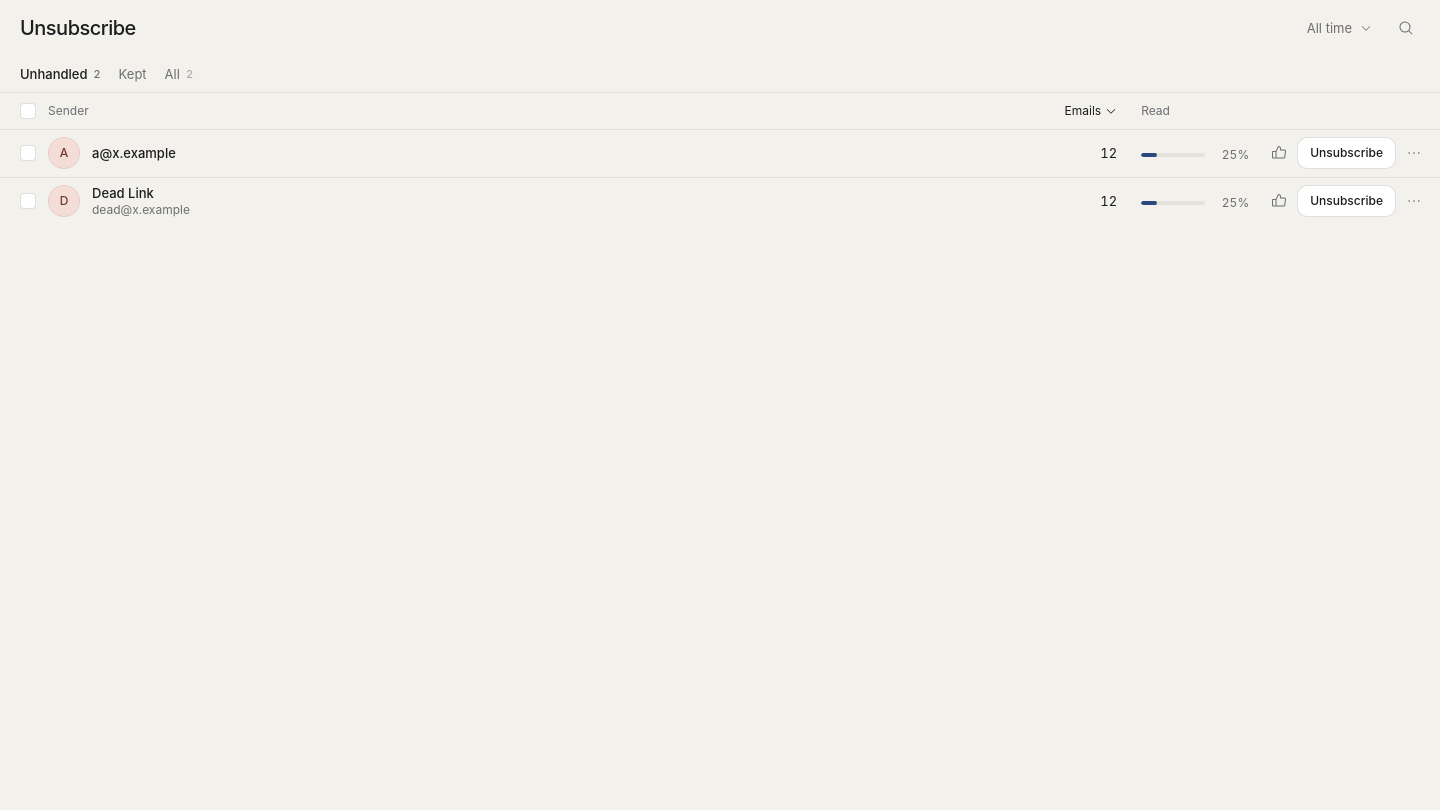
Test: BulkUnsubscribePage › keeps the bulk dialog open with the senders that failed (PLAN §16)
This screenshot has width=1440, height=810.
Click the checkbox named "Select all".
click(28, 111)  # box [20,103,36,119]
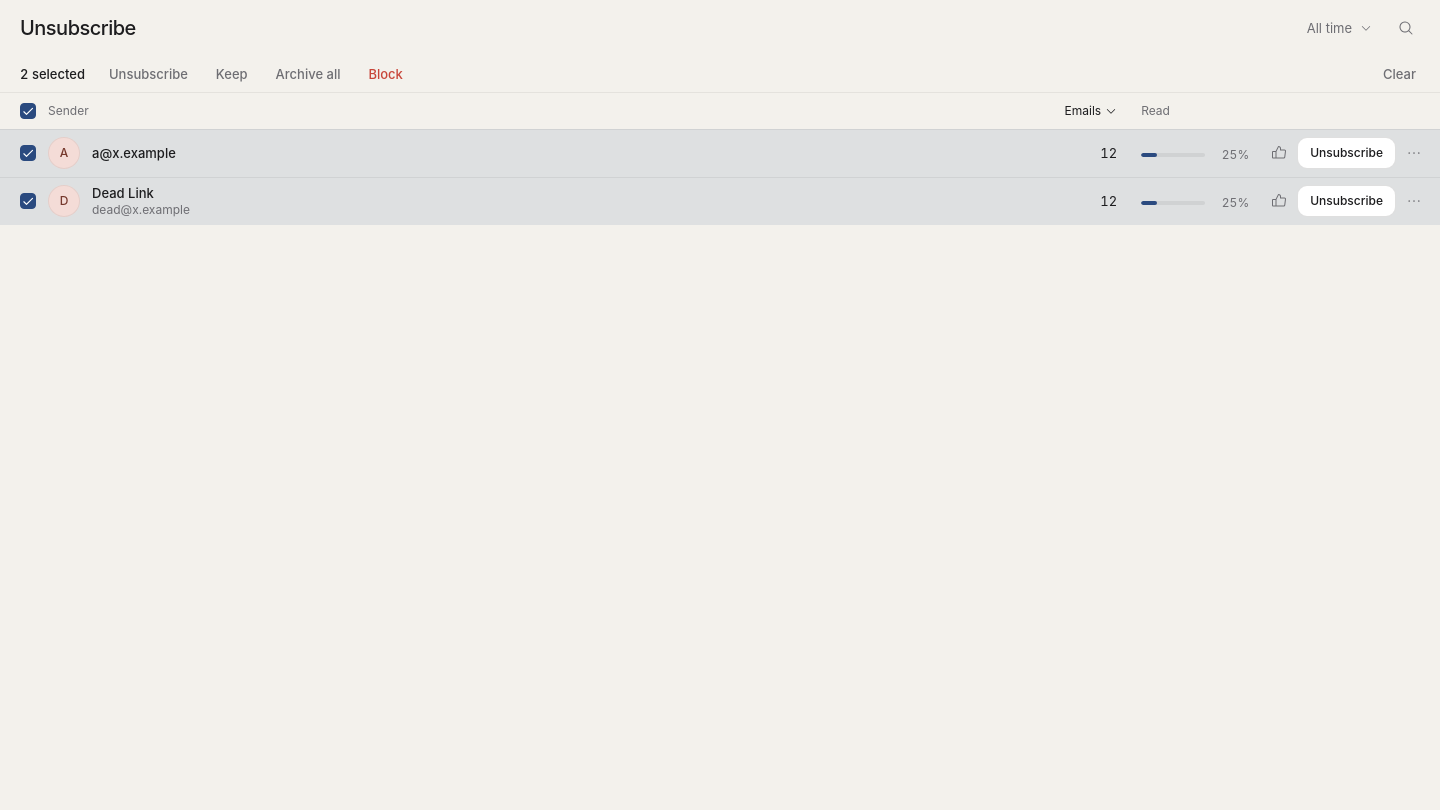
Click the button "Unsubscribe" next to "selected".
click(148, 74)  # box [97,58,200,90]
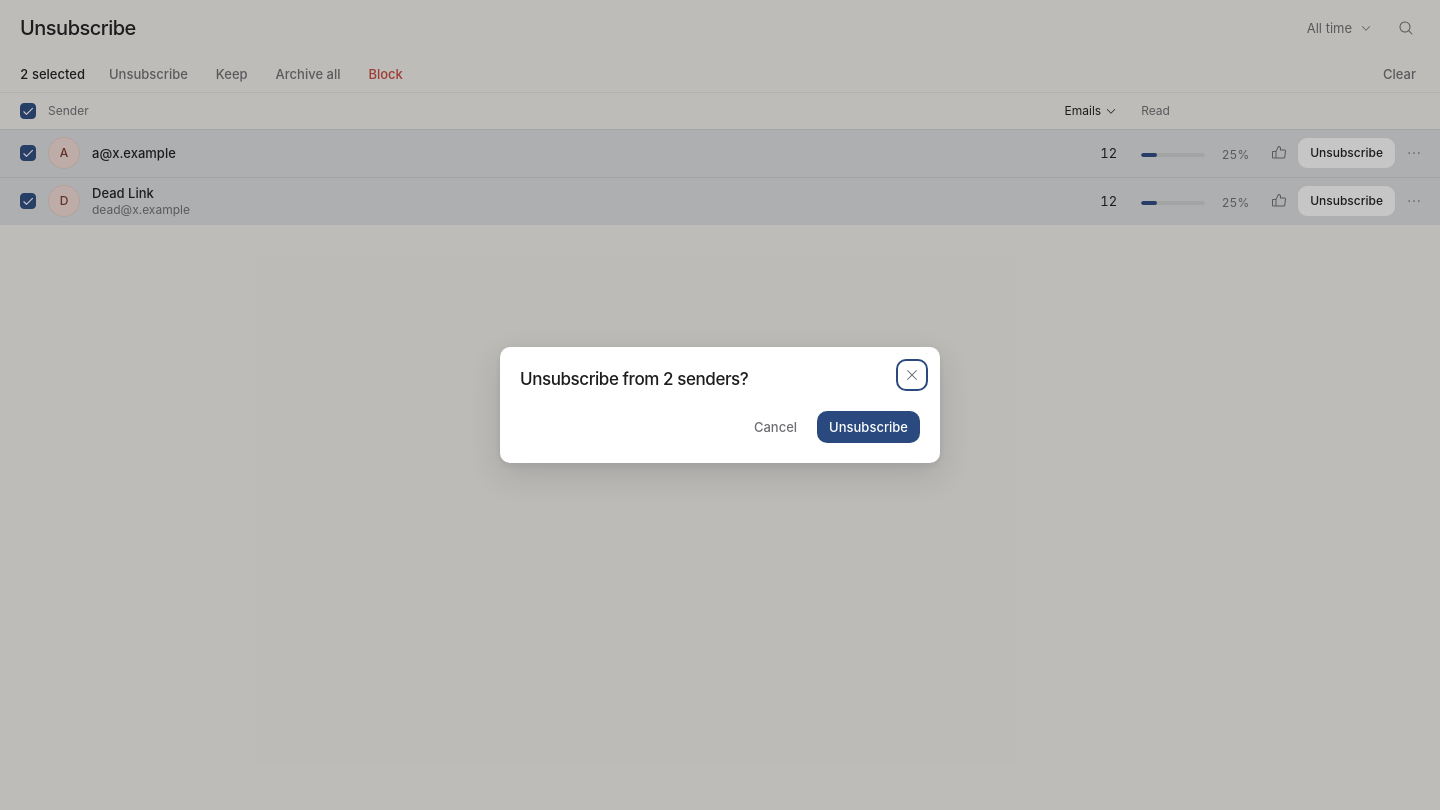
Click the button "Unsubscribe".
click(869, 427)  # box [817,411,920,443]
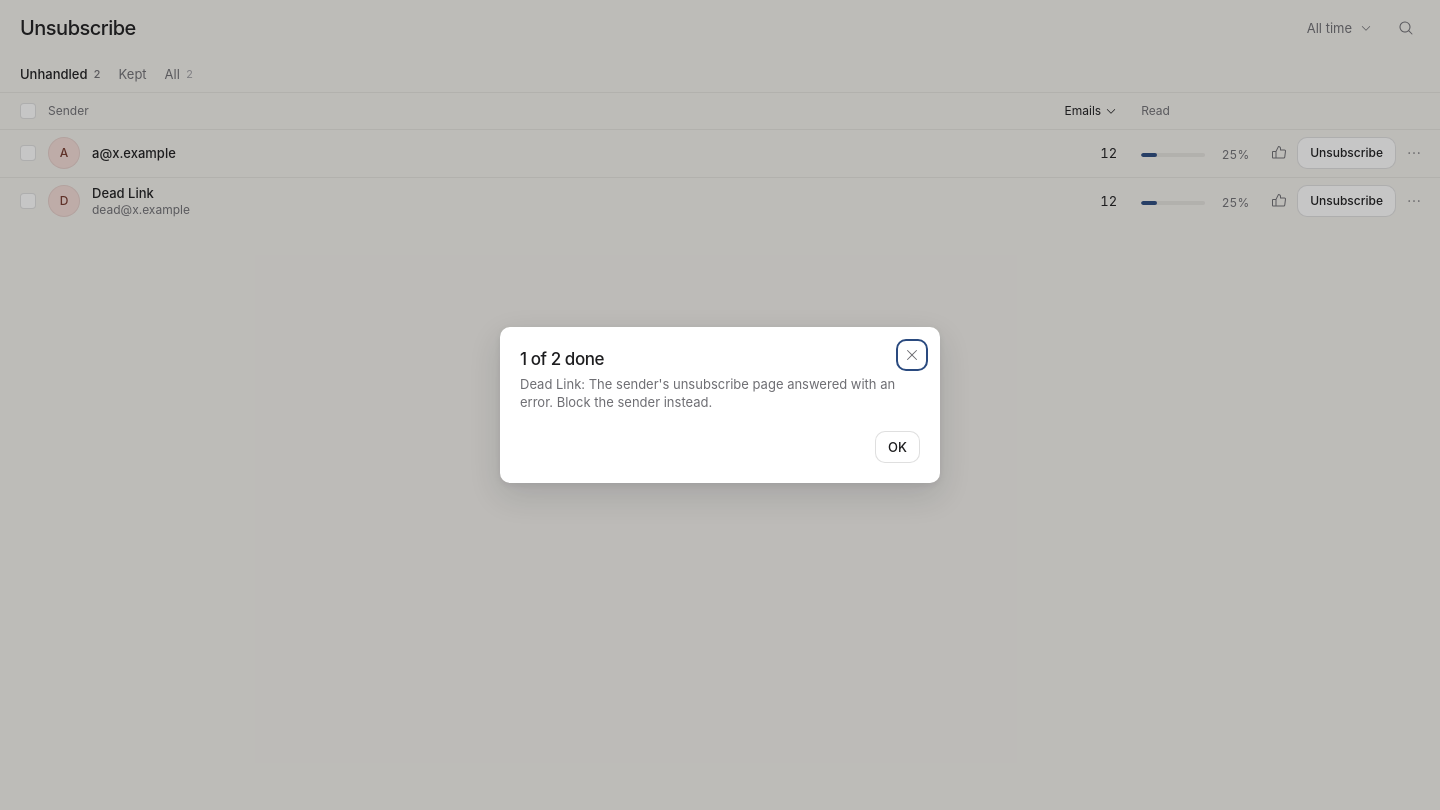
Now the dialog "1 of 2 done" shows "Dead Link: The sender's unsubscribe page answered with an error.", box [520,376,895,410]
Now the button "Cancel" is gone
Click the button "OK".
click(898, 447)  # box [875,431,920,463]
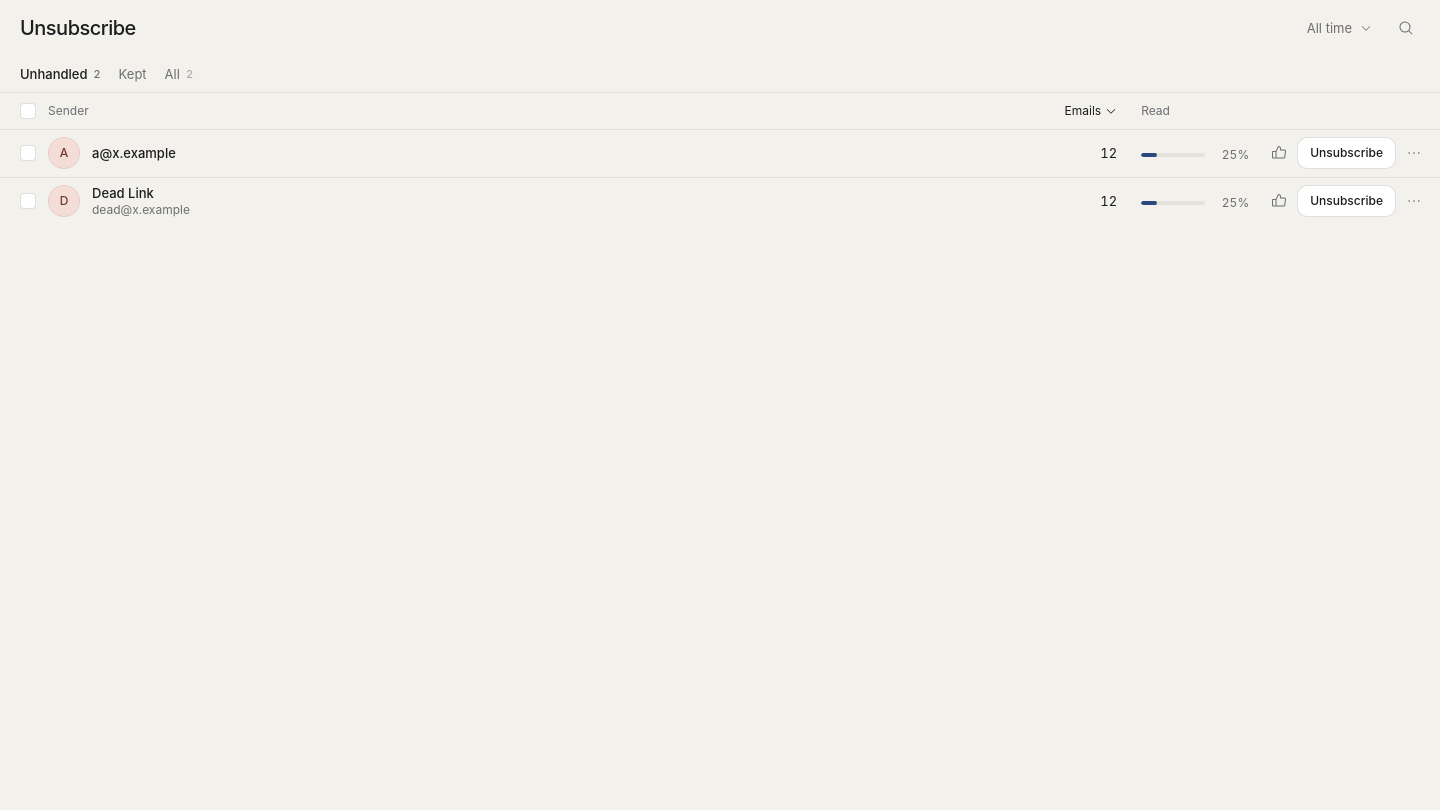
Now the dialog is gone
